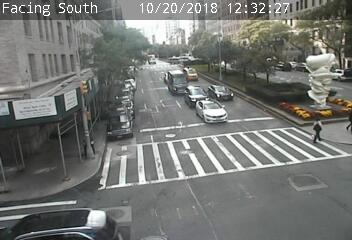car: (195, 101, 229, 122), (166, 70, 188, 94), (185, 86, 208, 105), (209, 85, 235, 99), (184, 66, 199, 79)
